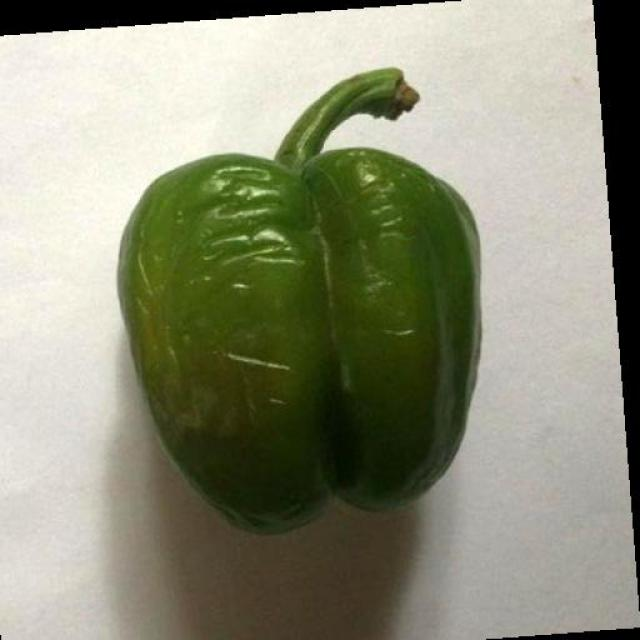Stale_Capsicum: (87, 128, 574, 521)
